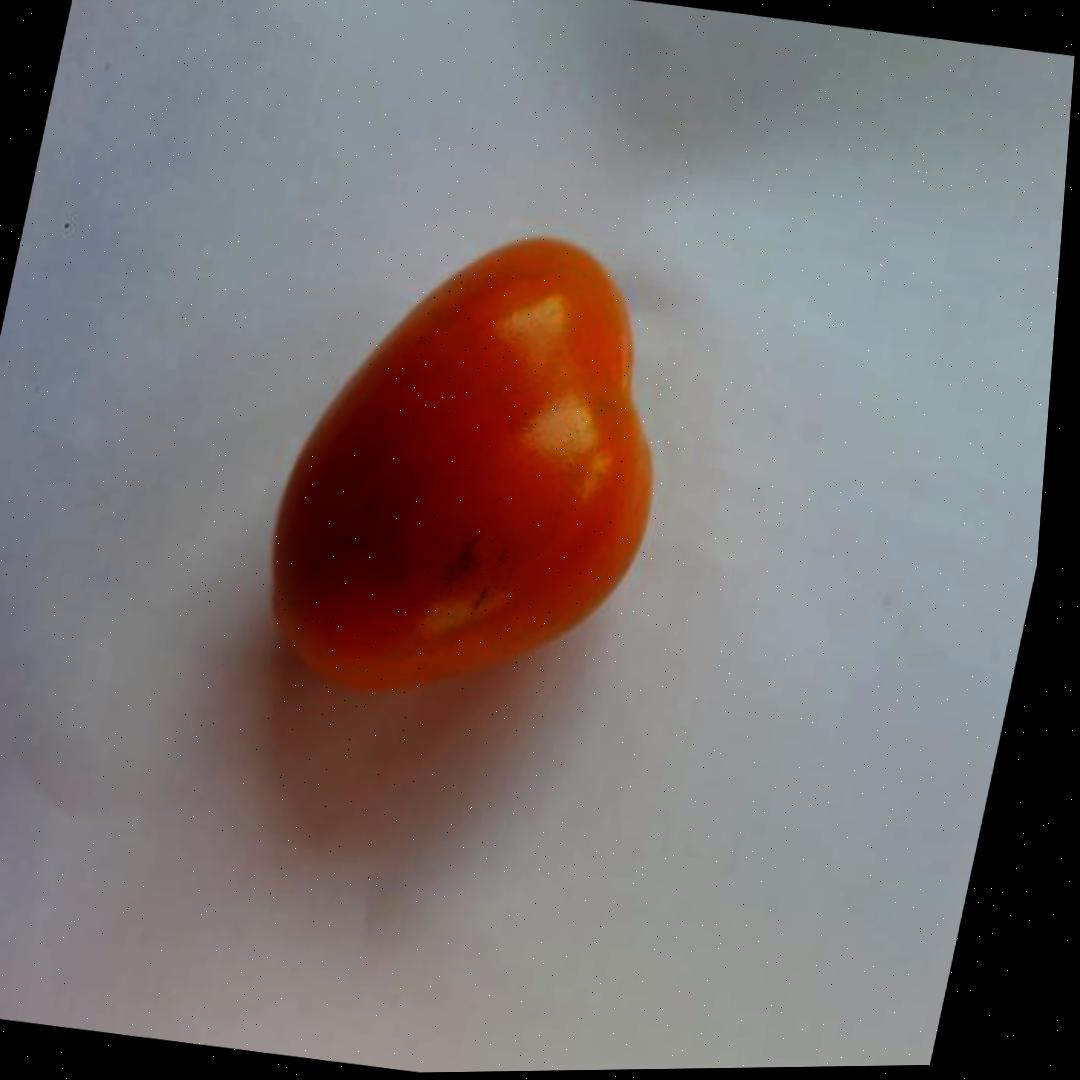setengah_matang: (233, 200, 709, 729)
